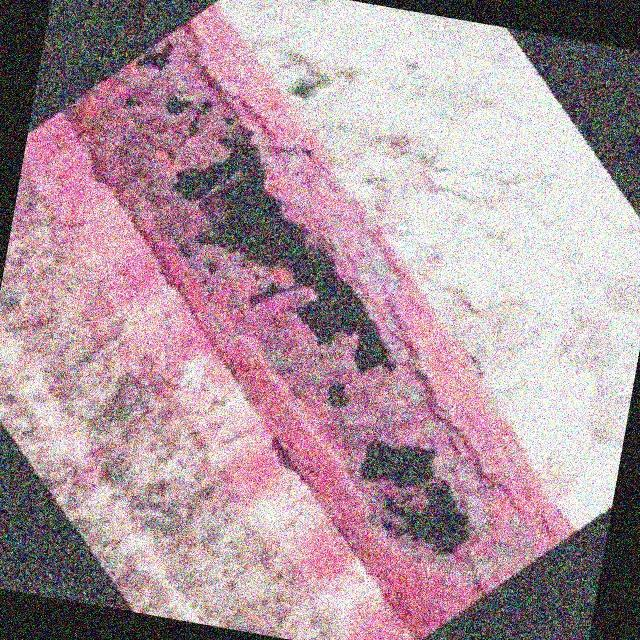Hole: (133, 112, 456, 400), (342, 429, 498, 562)
